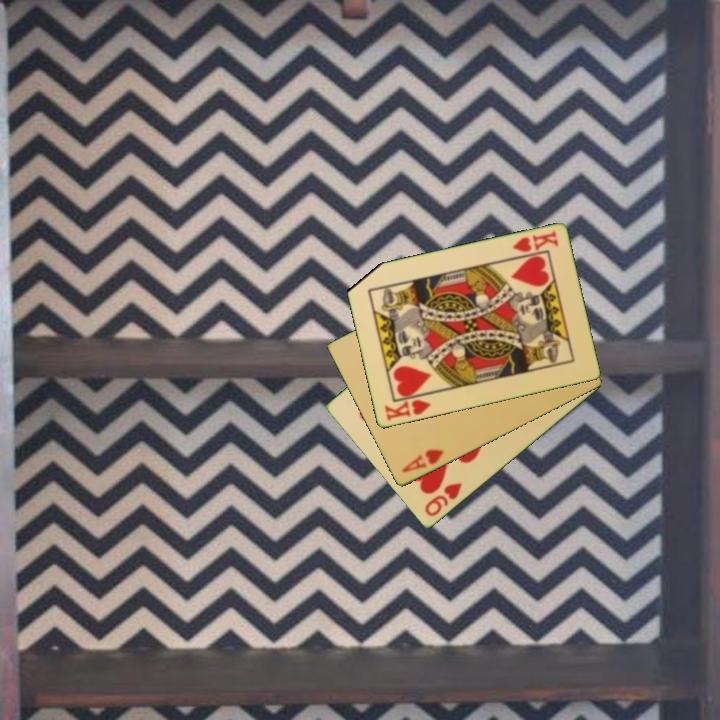9h: (421, 479, 465, 520)
Ah: (398, 446, 447, 476)
Kh: (381, 391, 434, 424), (509, 227, 561, 255)
